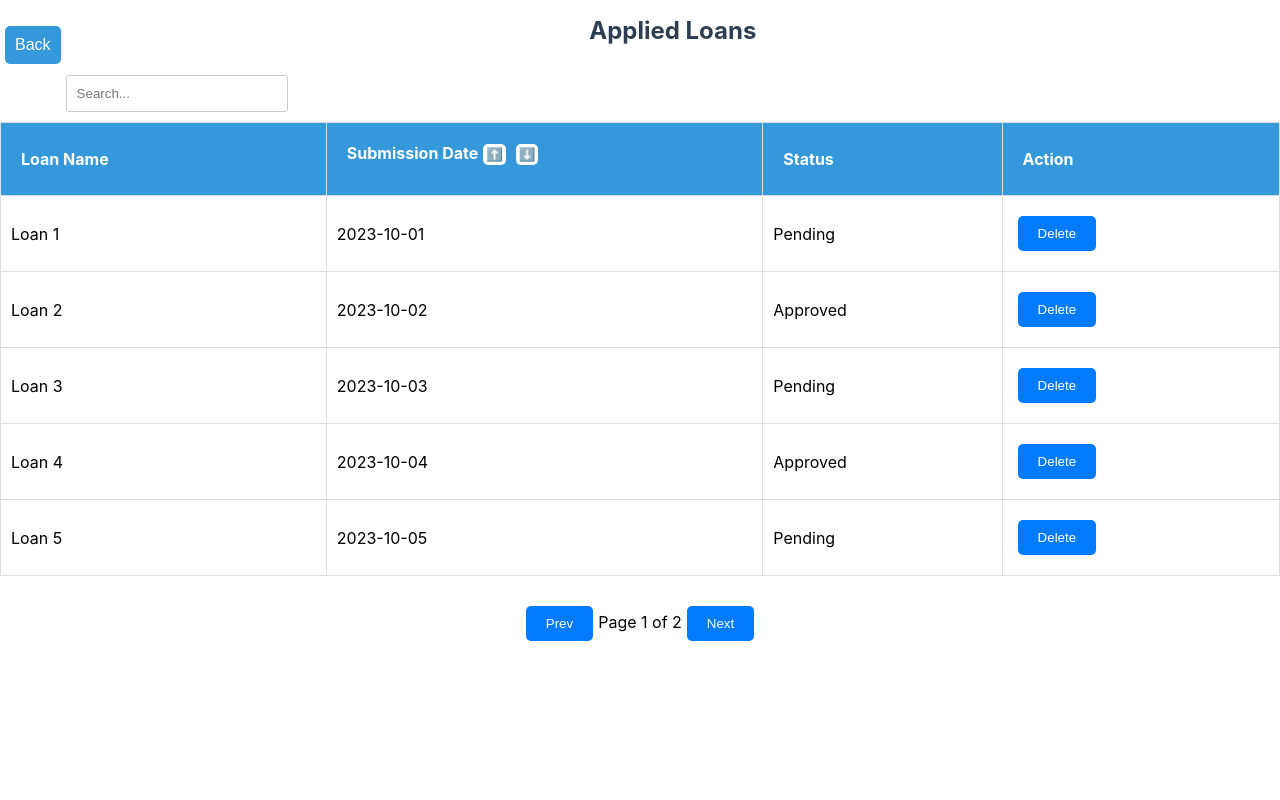
Test: AppliedLoansPage Component › should_sort_applied_loans_in_descending_order
The image size is (1280, 800).
Click the button "⬇️".
click(527, 155)  # box [516, 144, 538, 165]
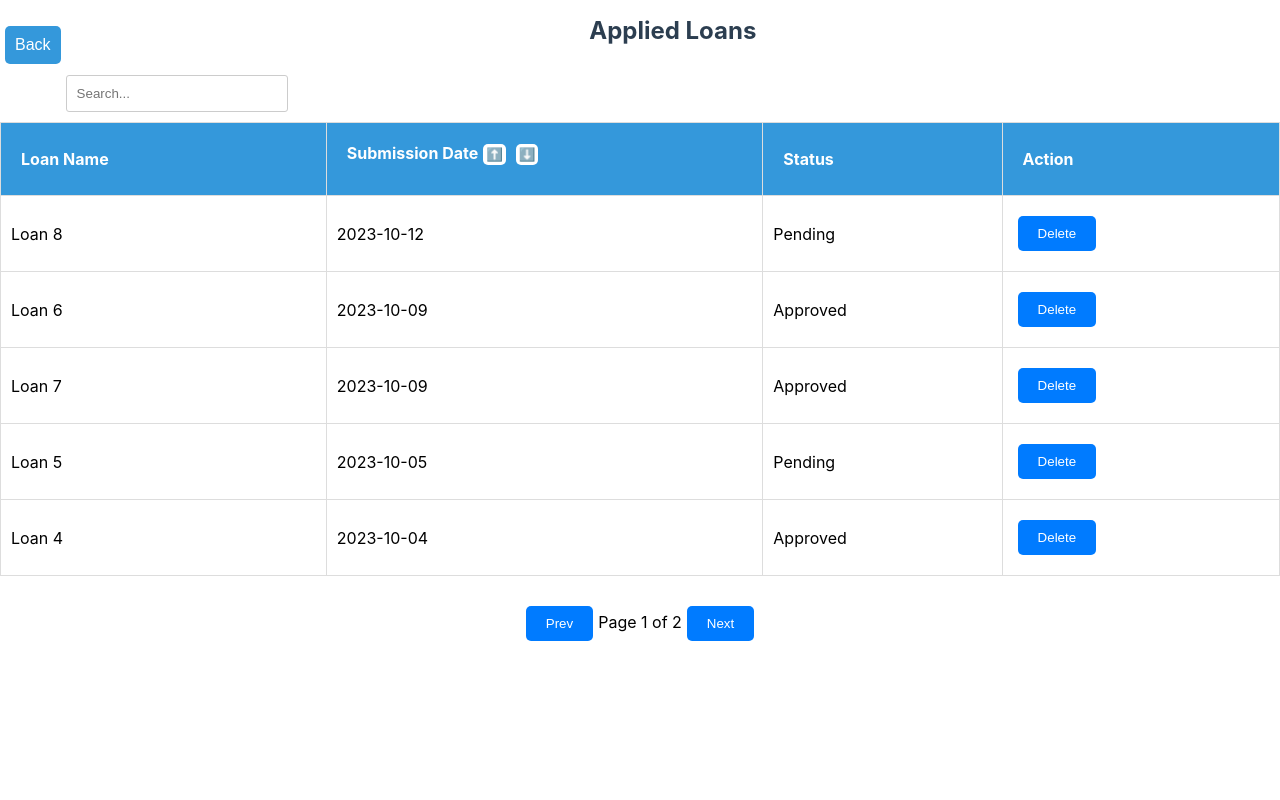
Check: the text "Loan 8" is shown, box [0, 196, 326, 272]
Check: the text "Loan 1" is gone
